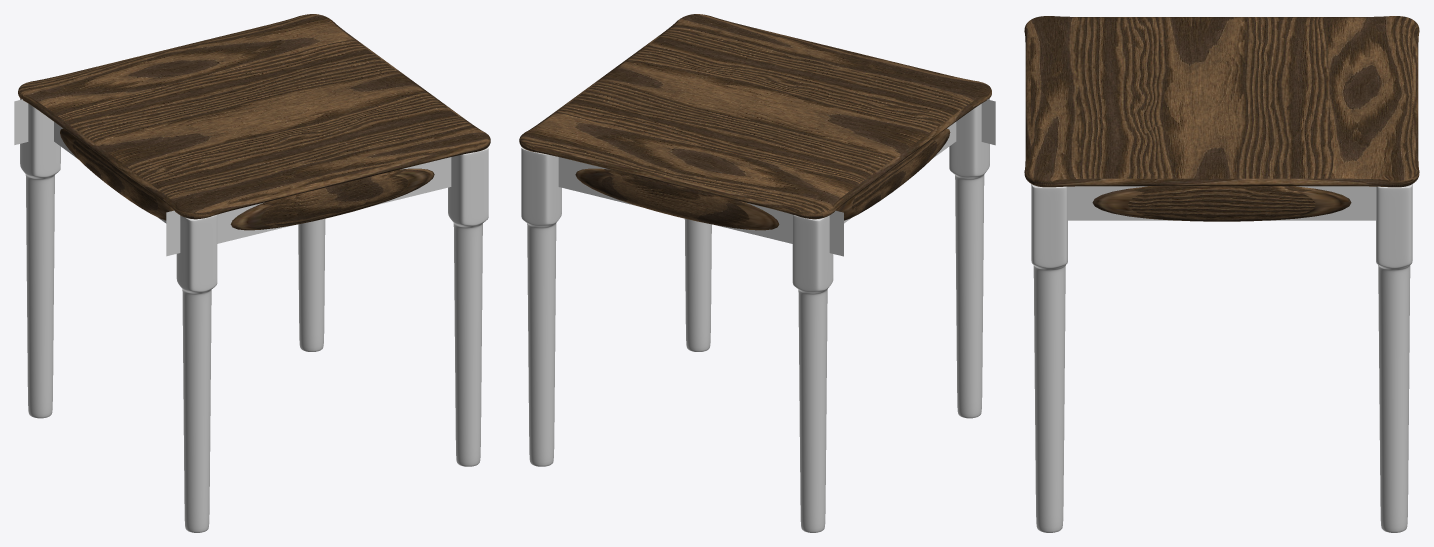
Rendered from mesa_2_OK.fbx.
3 renders of one model, left to right at view 1: azimuth 30°, elevation 25°; view 2: azimuth 150°, elevation 25°; view 3: azimuth 270°, elevation 25°, orthographic. The views are drawn at different scales.
Visible parts, largest first — view 1: Plane.005, Plane, Plane.004; view 2: Plane.005, Plane.004, Plane; view 3: Plane.005, Plane.002.
Boxes of the visible parts, bbox=[...] form: Plane.005: bbox=[18, 14, 490, 532]; Plane: bbox=[166, 157, 451, 256]; Plane.004: bbox=[14, 99, 28, 144]; Plane.005: bbox=[519, 14, 991, 532]; Plane.004: bbox=[558, 157, 843, 256]; Plane: bbox=[981, 99, 995, 145]; Plane.005: bbox=[1024, 16, 1419, 532]; Plane.002: bbox=[1068, 186, 1375, 220].
Bounding box in the file's own units: 170 × 166 × 165.
2 materials, 1 textured.
